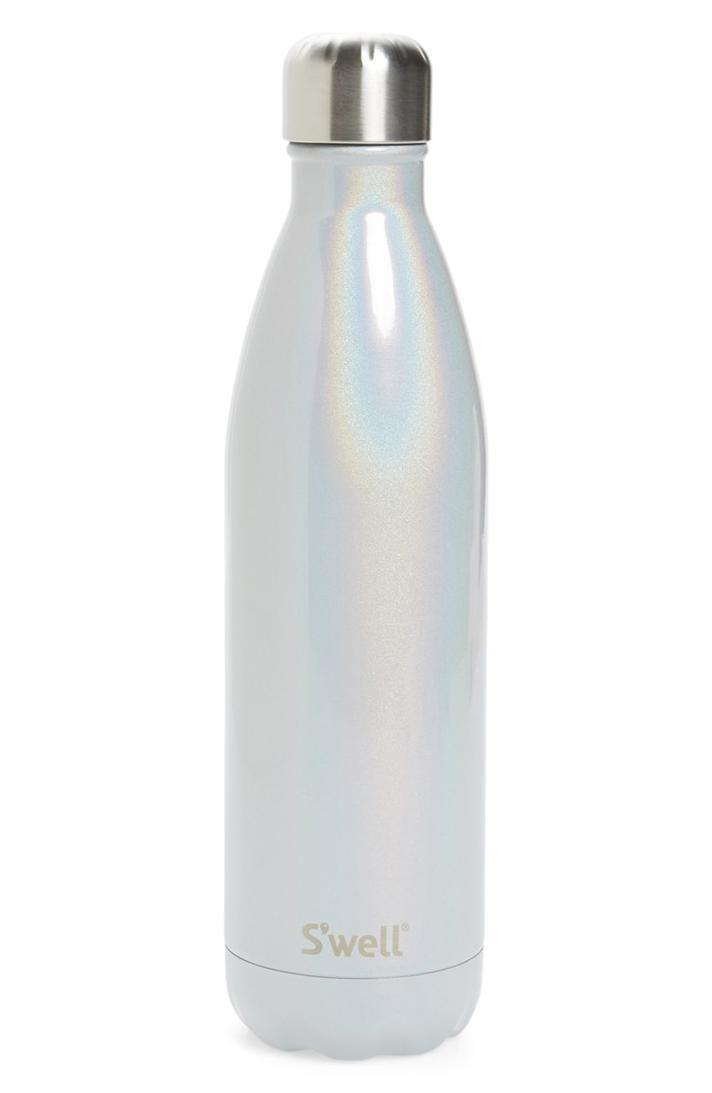gym bottle: (213, 23, 498, 1067)
